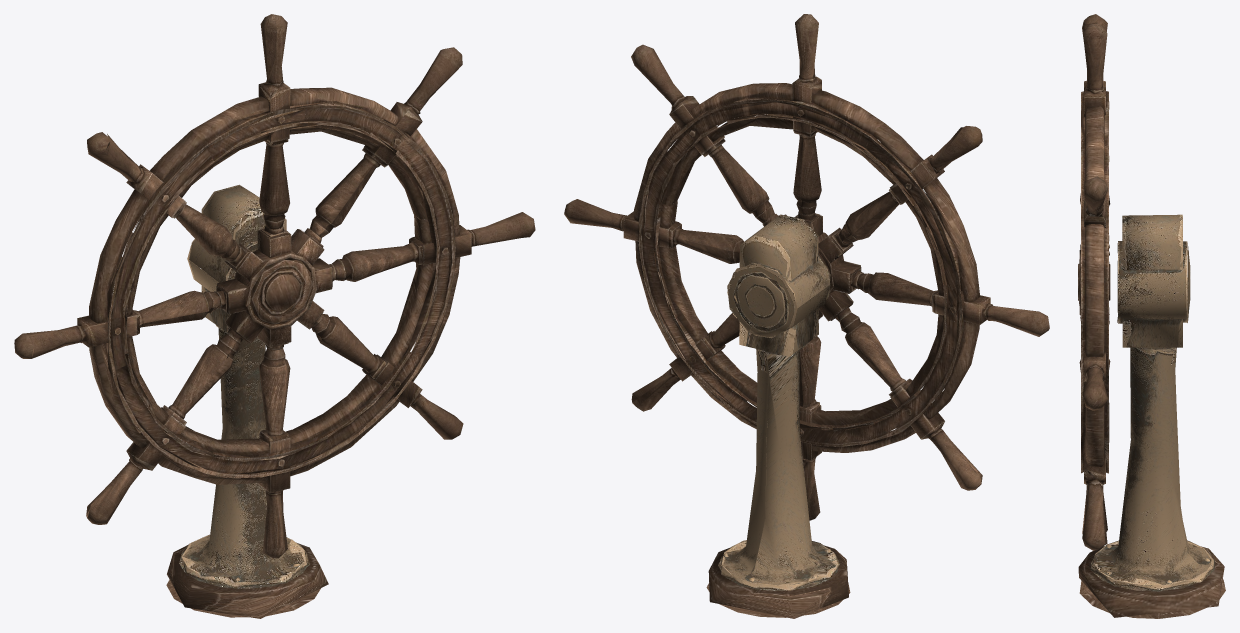
Rendered from ships_wheel.glb.
3 renders of one model, left to right at view 1: azimuth 30°, elevation 25°; view 2: azimuth 150°, elevation 25°; view 3: azimuth 270°, elevation 25°, orthographic. The views are drawn at different scales.
Visible parts, largest first — view 1: defaultMaterial.004, defaultMaterial.003, defaultMaterial.001, defaultMaterial; view 2: defaultMaterial.004, defaultMaterial.003, defaultMaterial.001, defaultMaterial; view 3: defaultMaterial.001, defaultMaterial.004, defaultMaterial.003, defaultMaterial.
Part boxes in pixels (x1,y1,x2,y2): defaultMaterial.004: (89, 87, 460, 484); defaultMaterial.003: (14, 14, 535, 558); defaultMaterial.001: (179, 184, 309, 588); defaultMaterial: (166, 542, 328, 618); defaultMaterial.004: (634, 83, 980, 452); defaultMaterial.003: (564, 14, 1049, 520); defaultMaterial.001: (718, 214, 839, 590); defaultMaterial: (706, 545, 850, 618); defaultMaterial.001: (1090, 214, 1214, 591); defaultMaterial.004: (1078, 82, 1110, 473); defaultMaterial.003: (1079, 14, 1110, 550); defaultMaterial: (1078, 546, 1225, 618).
Bounding box in the file's own units: 148 × 162 × 38.51.
Materials: 4 (4 with a texture image).
